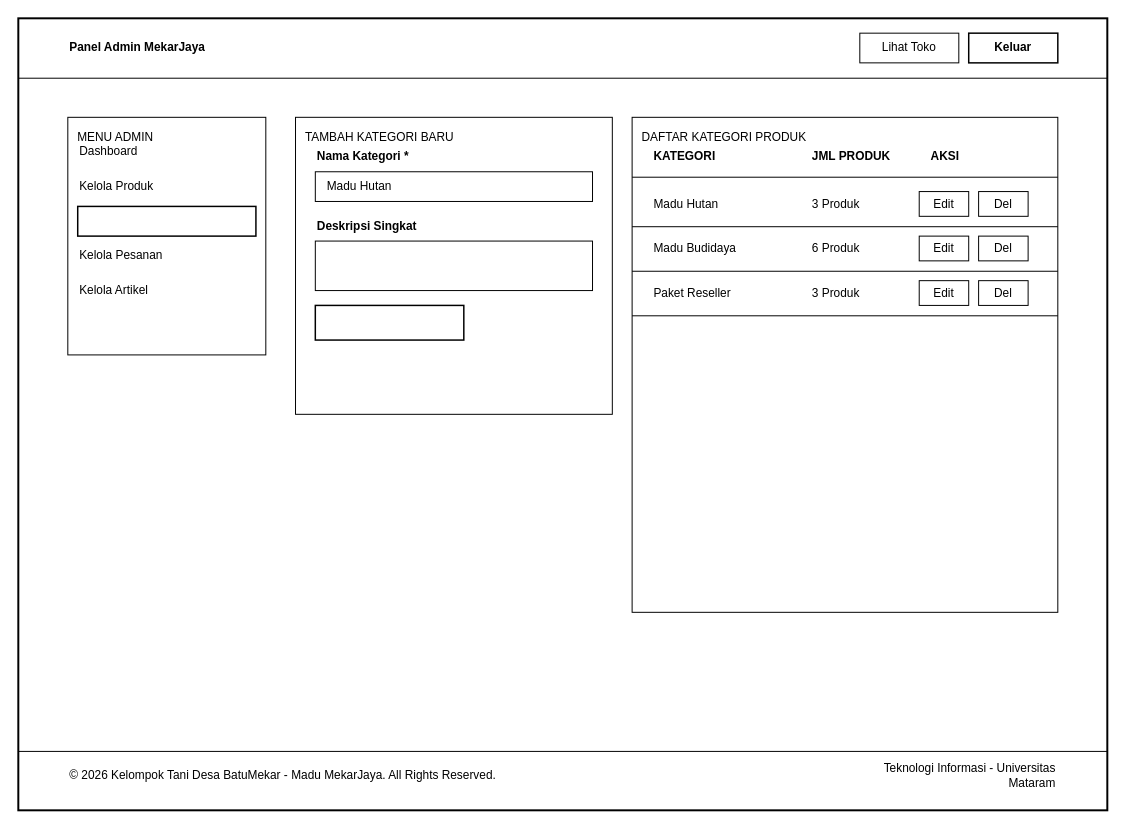
This 1125x828 diagram has some shape labels left out. Here are the shapes that lost their labels. From the top down, the centre of each, then its label:
At pixel 166 220: "Kelola Kategori".
At pixel 453 265: "Madu yang dipanen liar dari hutan rimba".
At pixel 389 322: "Tambah Kategori".
